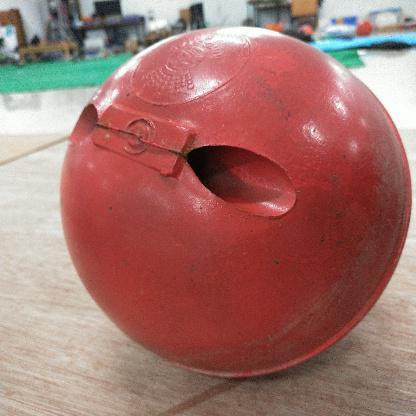red_buoy: (60, 24, 412, 382)
